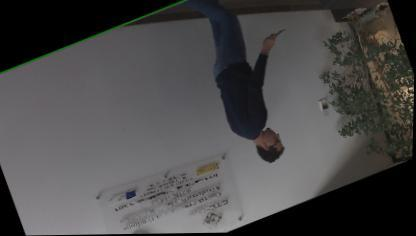knife: (262, 26, 292, 47)
